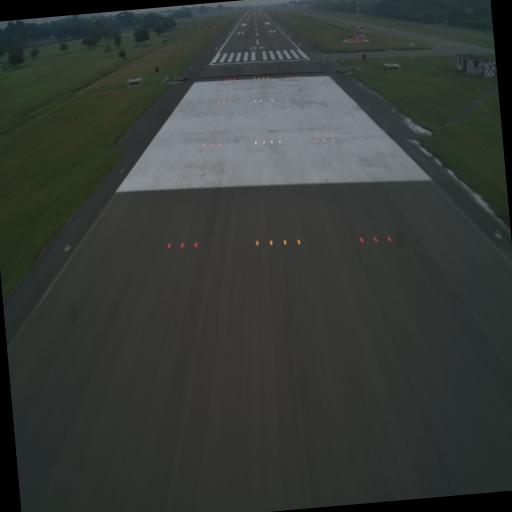off: (59, 237, 74, 261), (492, 226, 506, 244)
on: (372, 233, 380, 248), (295, 236, 303, 248), (165, 240, 173, 252), (358, 235, 366, 246), (268, 235, 274, 247), (254, 238, 260, 250), (180, 240, 186, 252), (386, 234, 393, 244), (282, 237, 288, 248), (193, 240, 199, 250)
